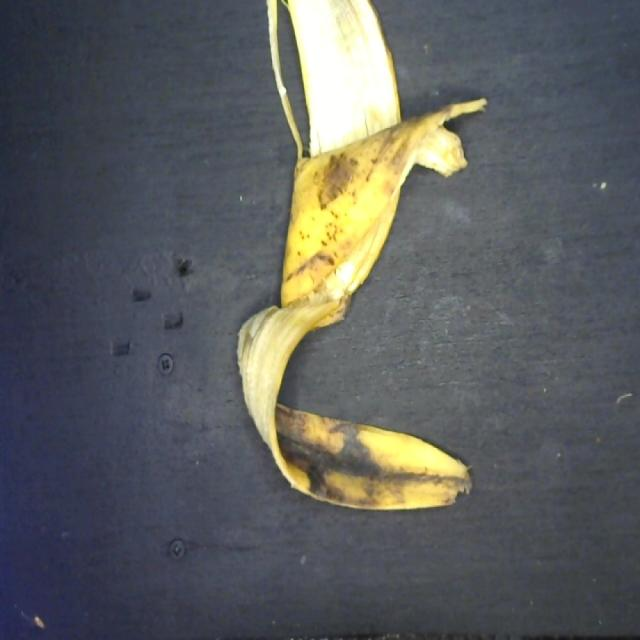biodegradable: (233, 0, 497, 518)
